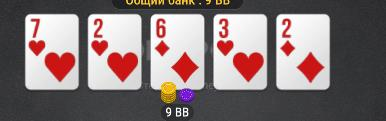2d: (279, 16, 329, 89)
2h: (89, 15, 141, 89)
3h: (215, 16, 267, 90)
6d: (152, 15, 203, 89)
7h: (27, 16, 79, 89)
